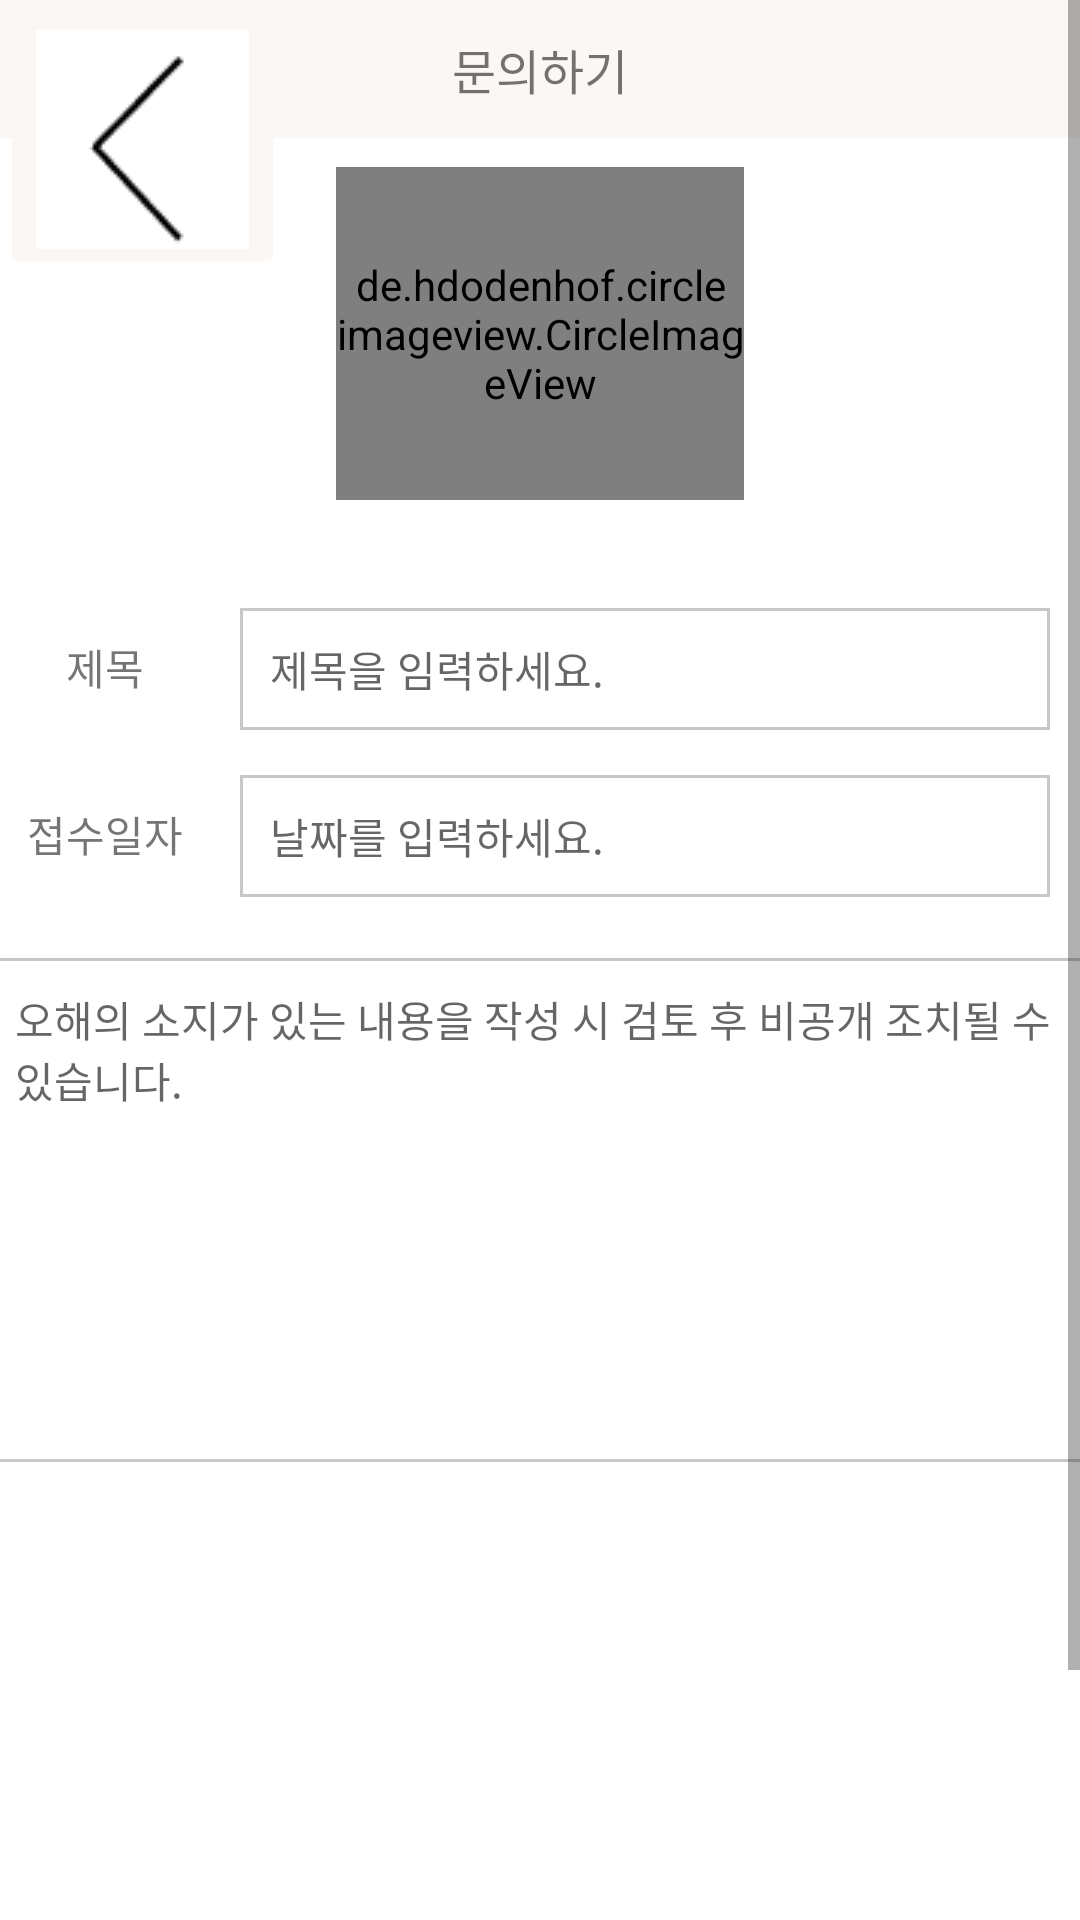

Icons on this 1080w x 1920h Android screen, each with the point to tap as (x,y):
arrow: (137,149)
